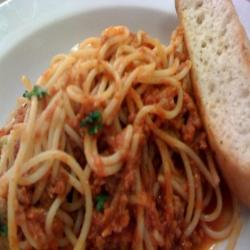bolonese_pasta: (1, 31, 221, 250)
bread: (171, 2, 250, 190)
